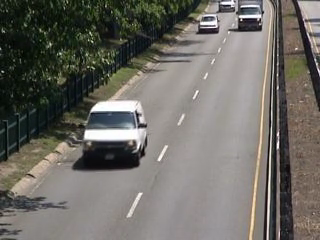car: (196, 14, 221, 35), (218, 1, 237, 15)
truck: (78, 98, 151, 169), (236, 1, 265, 32)
